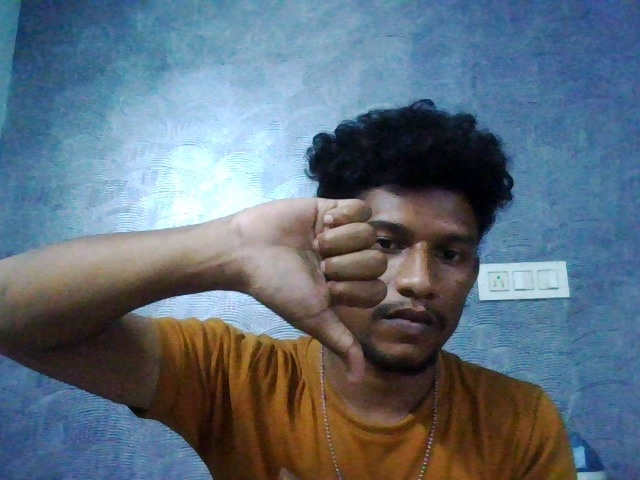no: (226, 189, 407, 412)
